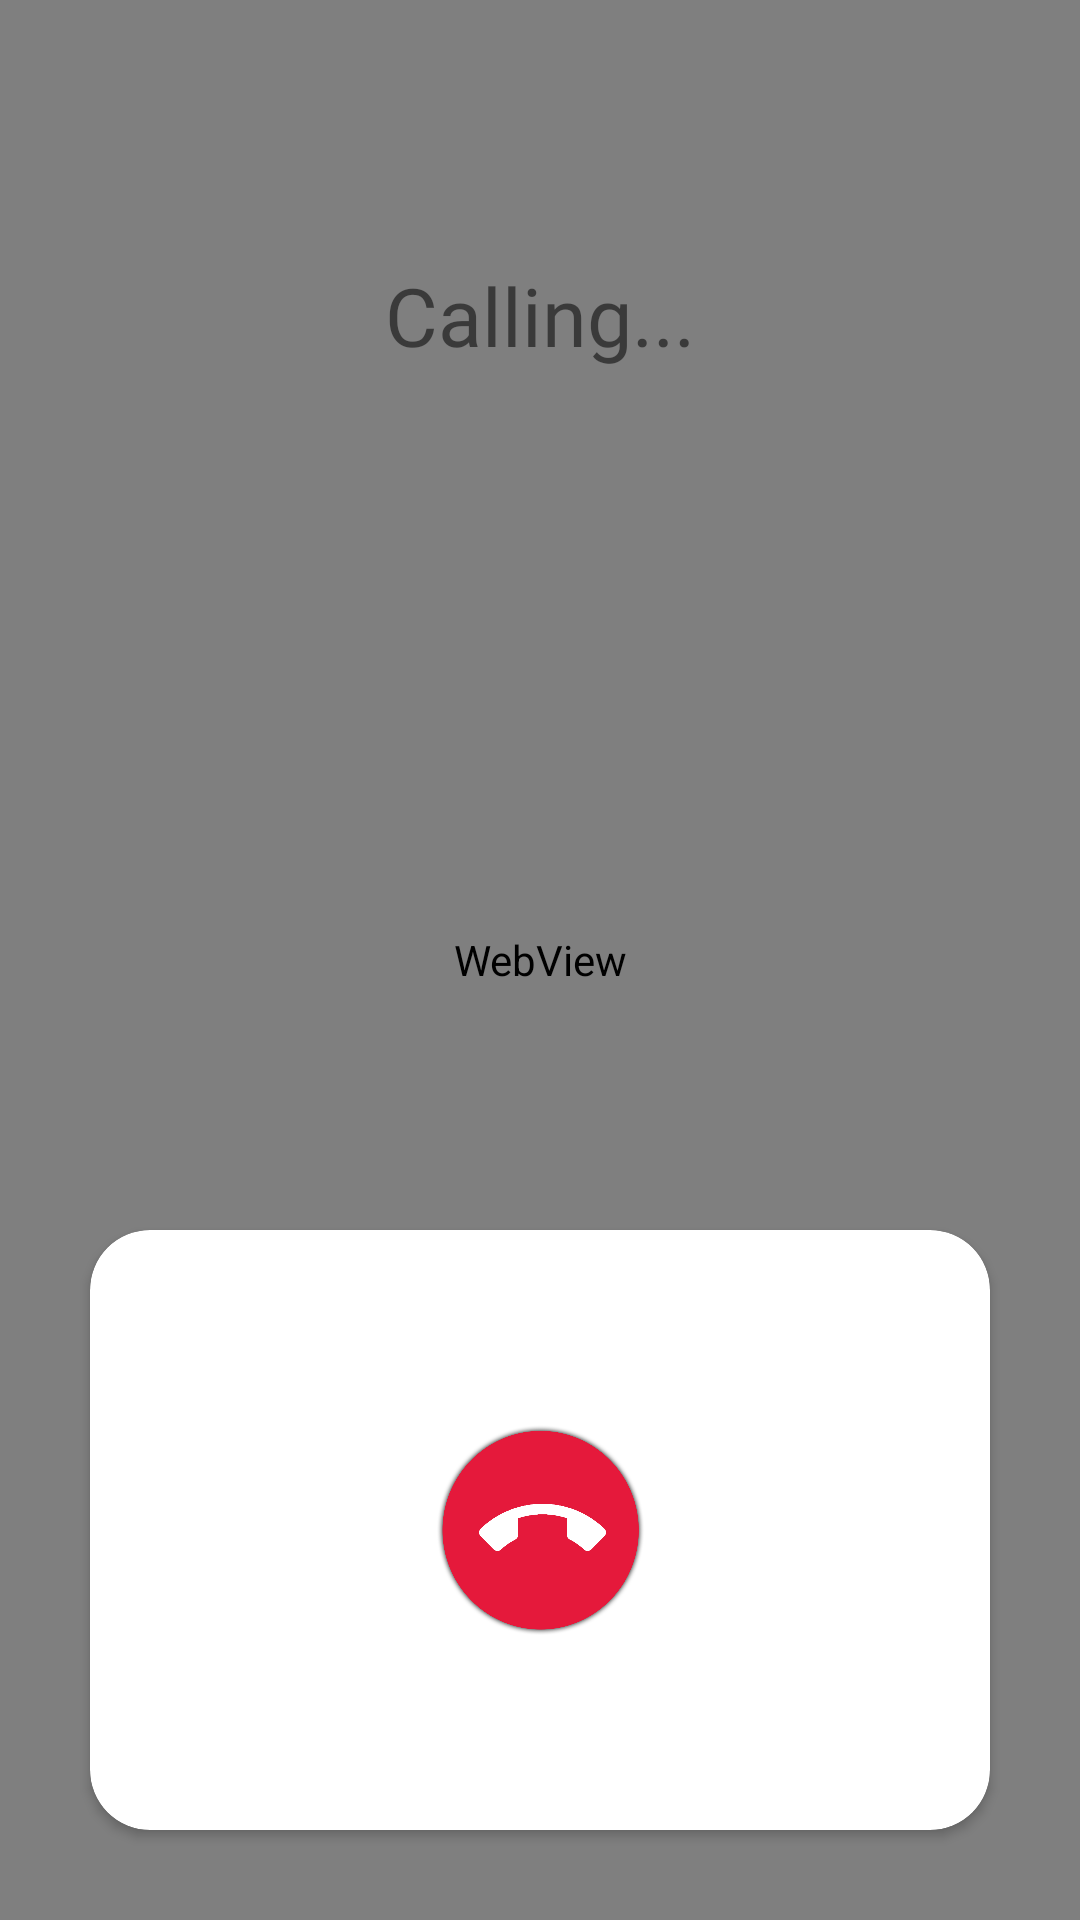

Screen size 1080px×1920px. Icon name, then its box in pixels as BBox(x1, y1, x2, y2):
endcall: BBox(439, 1427, 642, 1633)
